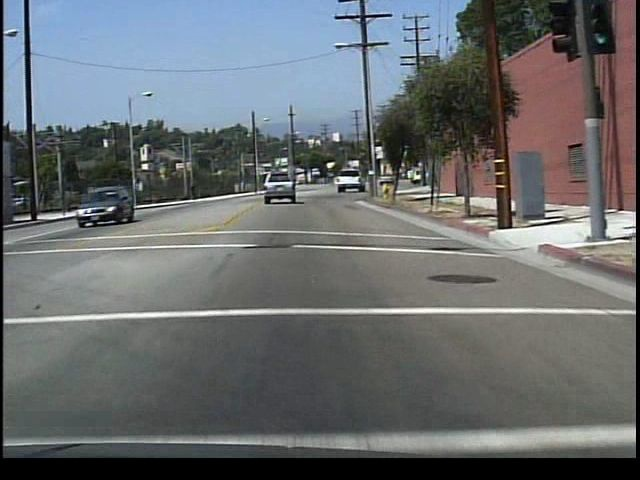person: (189, 180, 201, 202)
